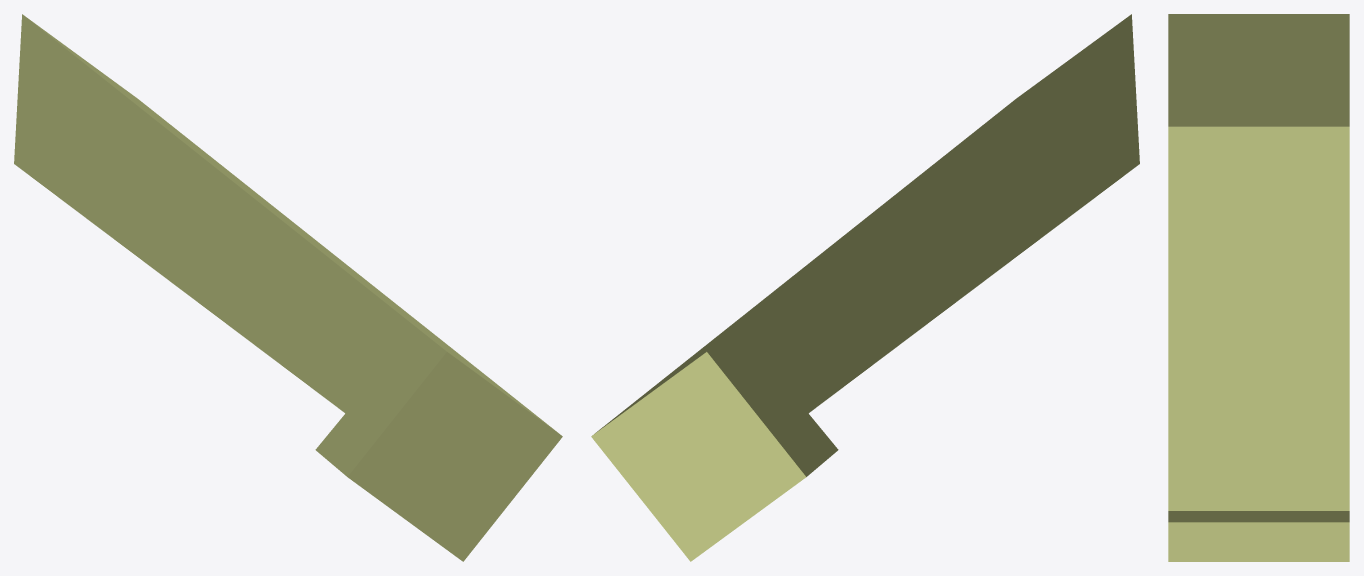
3 views of the same model, side by side, from view 1: azimuth 30°, elevation 25°; view 2: azimuth 150°, elevation 25°; view 3: azimuth 270°, elevation 25° (orthographic). The views are drawn at different scales.
Visible parts, largest first — view 1: 0_0_1_1_2_3_1_2_1; view 2: 0_0_1_1_2_3_1_2_1; view 3: 0_0_1_1_2_3_1_2_1.
Boxes of the visible parts, x1=… form: 0_0_1_1_2_3_1_2_1: x1=14, y1=14, x2=562, y2=561; 0_0_1_1_2_3_1_2_1: x1=591, y1=14, x2=1139, y2=561; 0_0_1_1_2_3_1_2_1: x1=1168, y1=14, x2=1349, y2=561.
Bounding box in the file's own units: 19.42 × 23.25 × 9.
